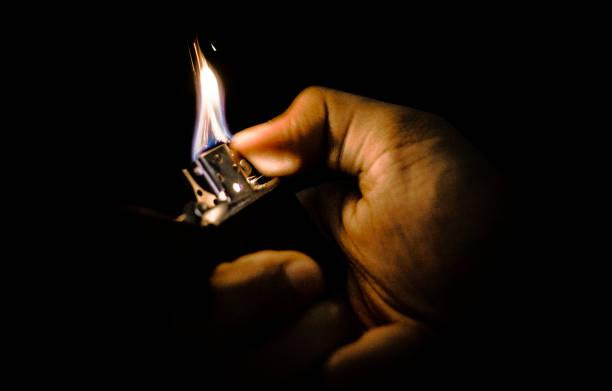Fire: (182, 38, 230, 148)
